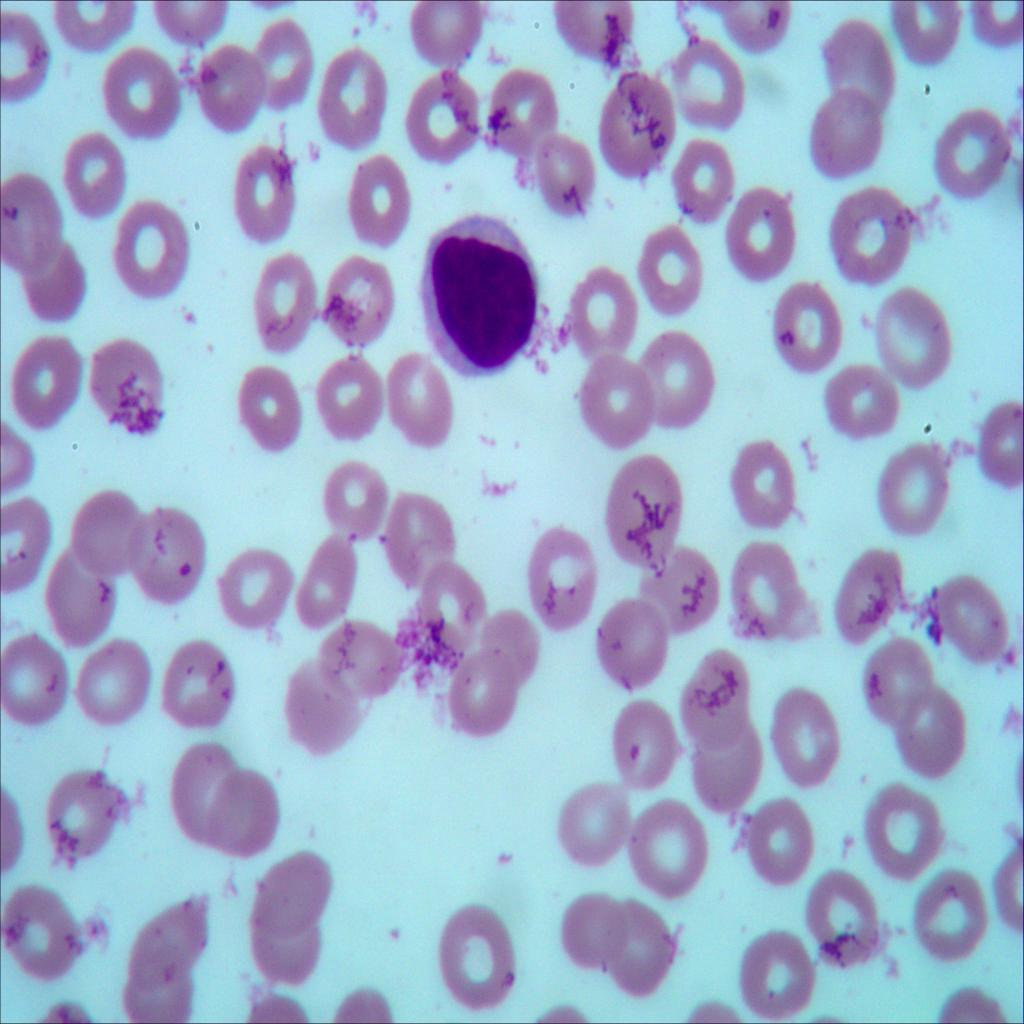Limfoblast: (409, 210, 549, 388)
